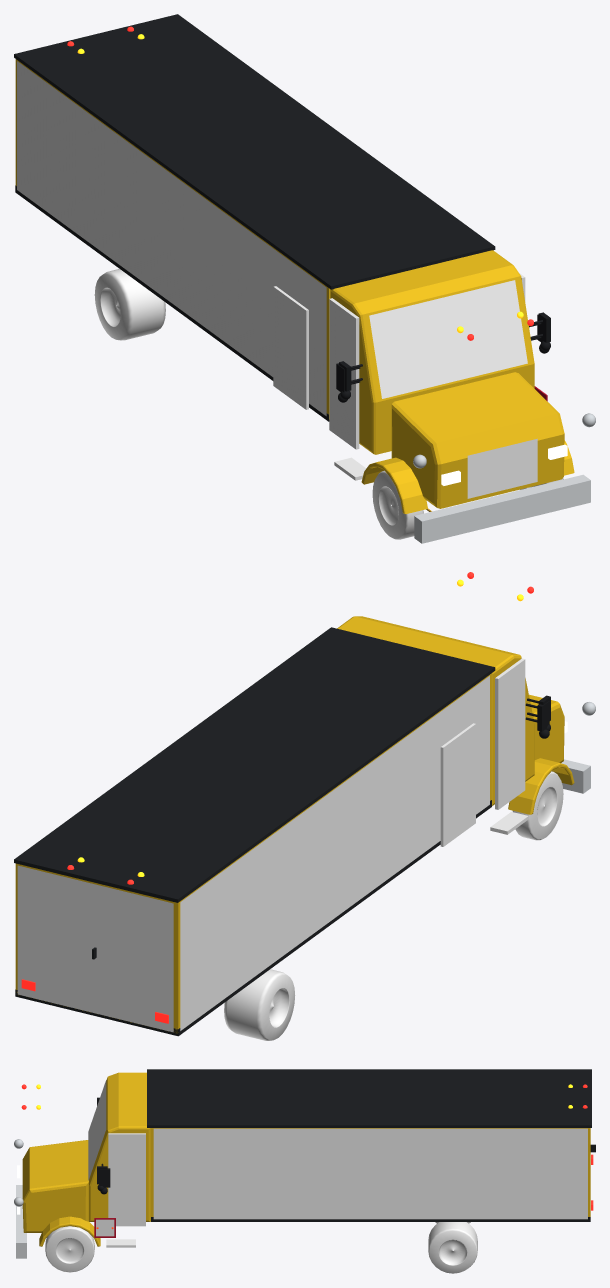
File: fleet--schoolBus.glb
The picture shows the model from 3 angles, top to bottom: view 1: azimuth 30°, elevation 25°; view 2: azimuth 150°, elevation 25°; view 3: azimuth 270°, elevation 25°; orthographic projection. The views are drawn at different scales.
Parts seen in each view (by area): view 1: schoolBus:shell, axle2, doorEntry, doorR, wheelFR; view 2: schoolBus:shell, doorR, axle2, doorEntry, wheelFR; view 3: schoolBus:shell, doorL, axle2, wheelFL, stopArm.
Part boxes in pixels (left/top/right/bottom): schoolBus:shell: left=14, top=14, right=590, bottom=543; axle2: left=94, top=269, right=165, bottom=340; doorEntry: left=273, top=286, right=308, bottom=409; doorR: left=329, top=298, right=359, bottom=449; wheelFR: left=372, top=470, right=423, bottom=539; schoolBus:shell: left=14, top=616, right=590, bottom=1036; doorR: left=495, top=658, right=525, bottom=809; axle2: left=224, top=969, right=295, bottom=1040; doorEntry: left=440, top=723, right=475, bottom=846; wheelFR: left=512, top=771, right=563, bottom=840; schoolBus:shell: left=16, top=1069, right=591, bottom=1258; doorL: left=108, top=1133, right=145, bottom=1226; axle2: left=428, top=1222, right=477, bottom=1273; wheelFL: left=45, top=1226, right=94, bottom=1272; stopArm: left=94, top=1218, right=115, bottom=1237.
Size of the model in its own units: 3.16 by 3.1 by 10.79.
